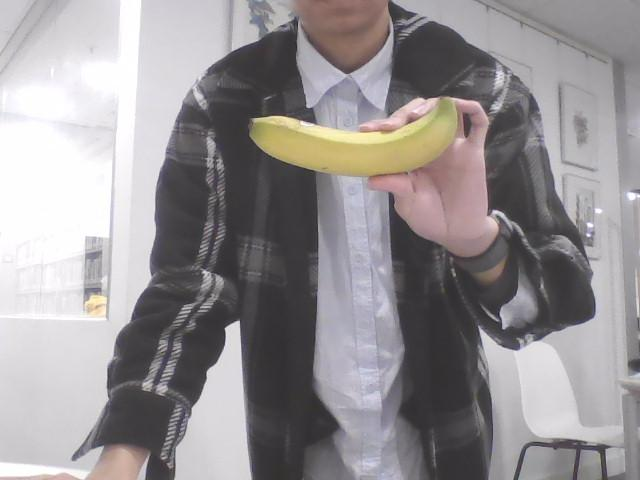banana: (247, 94, 456, 175)
